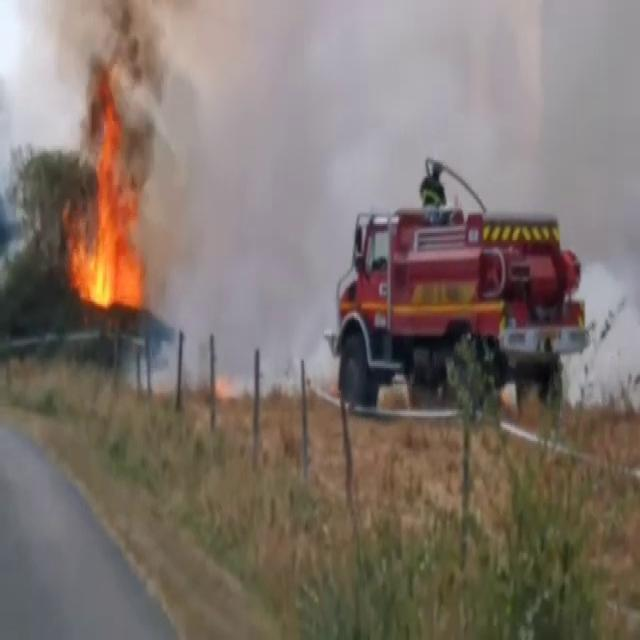Fire: (64, 100, 152, 318)
Smoke: (152, 0, 353, 344)
